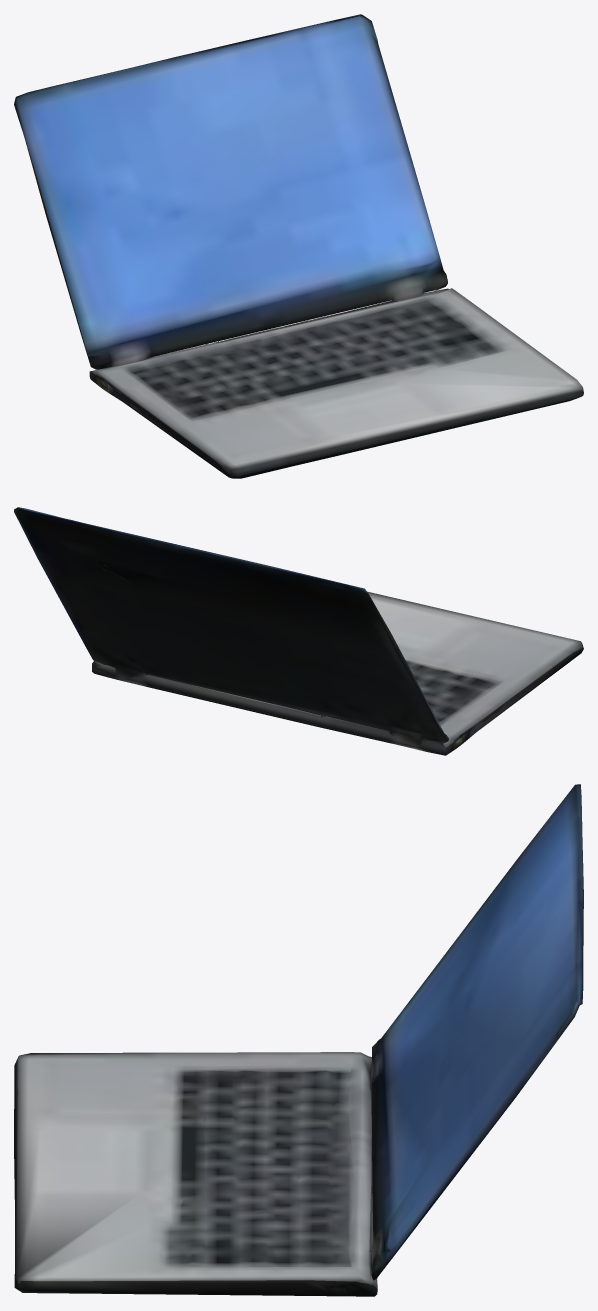
The model's file is Lenovo_Yoga_2_11-medium.glb.
3 views of the same model, one above another, from view 1: azimuth 30°, elevation 25°; view 2: azimuth 150°, elevation 25°; view 3: azimuth 270°, elevation 25° (orthographic). The views are drawn at different scales.
Visible parts, largest first — view 1: Lenovo_Yoga_2_11; view 2: Lenovo_Yoga_2_11; view 3: Lenovo_Yoga_2_11.
Part boxes in pixels (bbox=[...]): Lenovo_Yoga_2_11: bbox=[14, 14, 583, 478]; Lenovo_Yoga_2_11: bbox=[14, 507, 583, 755]; Lenovo_Yoga_2_11: bbox=[14, 784, 583, 1296].
Size of the model in its own units: 0.299 by 0.1851 by 0.3199.
1 material, 1 textured.
